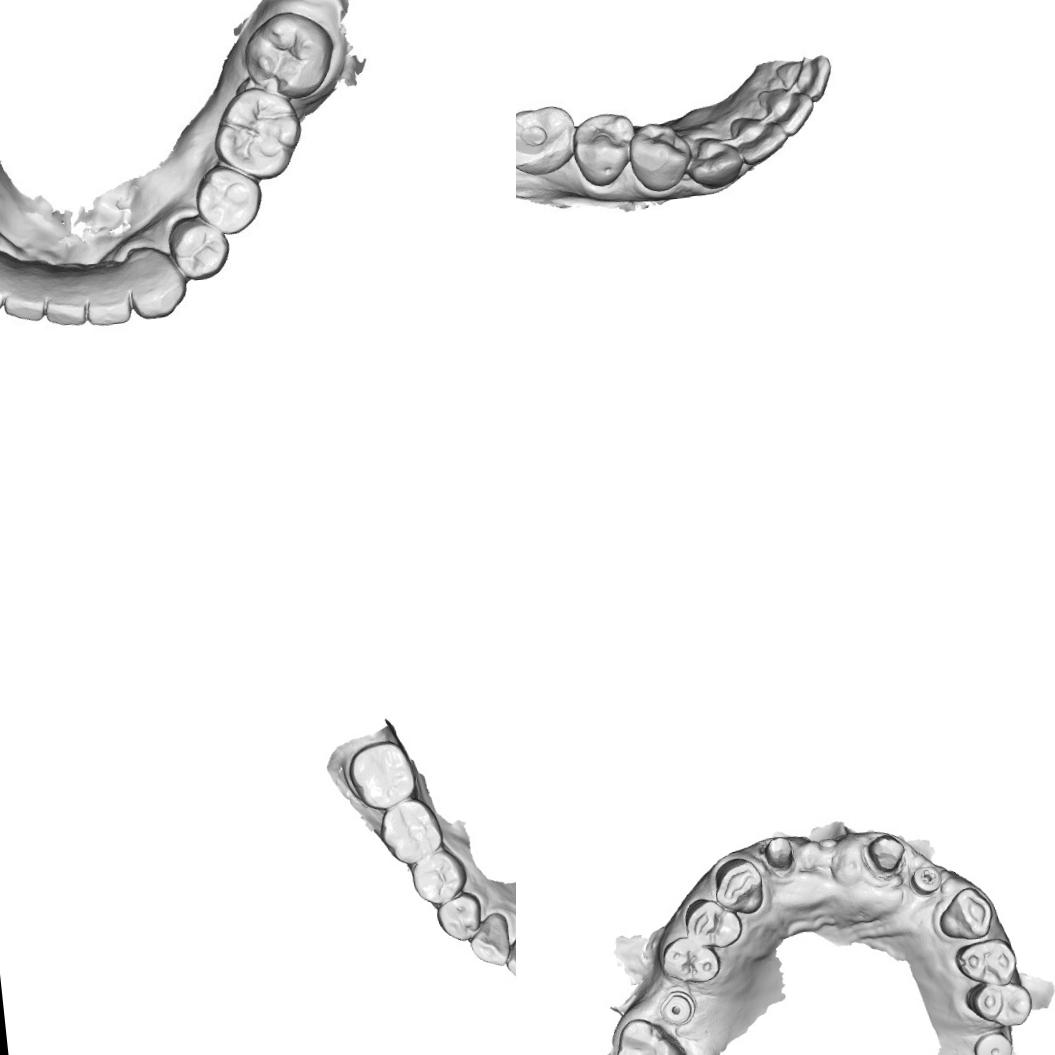canine: (122, 248, 190, 325), (934, 884, 996, 944), (710, 852, 766, 918), (465, 910, 514, 972), (688, 132, 744, 186)
crown: (862, 828, 910, 877), (760, 833, 798, 878)
implant: (657, 988, 696, 1028), (970, 1028, 1016, 1055)
implant_plus: (908, 860, 946, 898)
incisor: (38, 280, 92, 331), (0, 272, 50, 327), (80, 282, 136, 330), (735, 113, 789, 162), (765, 86, 814, 137), (501, 926, 516, 990)
molar: (212, 86, 305, 176), (242, 5, 331, 99), (344, 735, 420, 814), (374, 794, 447, 869), (516, 102, 579, 182), (610, 1012, 693, 1055)
premolar: (196, 162, 262, 235), (570, 109, 636, 182), (629, 120, 691, 194), (961, 978, 1036, 1033), (408, 846, 472, 909), (680, 894, 745, 953), (951, 936, 1021, 990), (657, 932, 722, 988), (172, 218, 230, 278), (432, 889, 484, 946)
